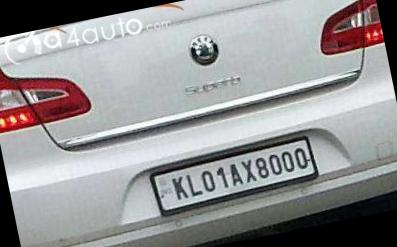plate: (147, 128, 343, 221)
